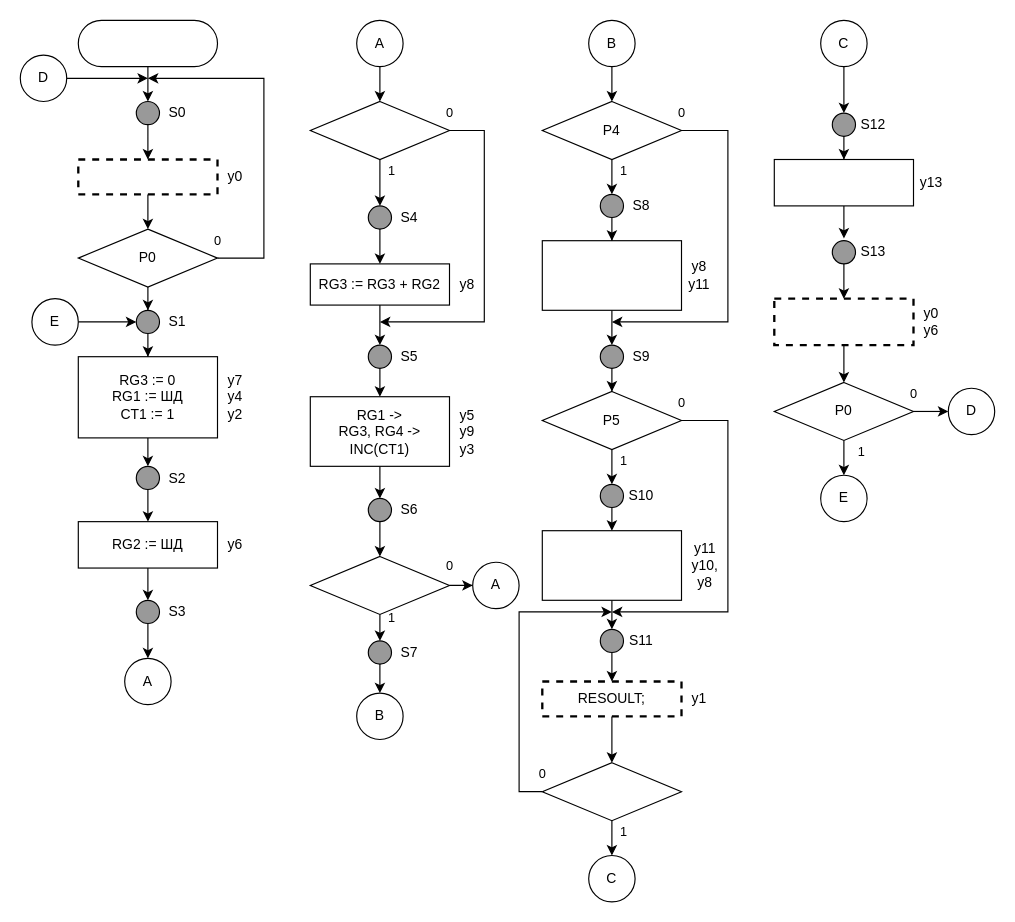
This 1015x922 diagram has some shape labels left out. Here are the shapes that lost their labels. From the top down, the box of each, then its label:
(77, 19, 217, 67): НАЧАЛО
(309, 100, 449, 160): P3
(77, 158, 218, 195): READY;
(773, 158, 913, 206): ШД := BD2
(541, 240, 682, 310): RG3 := RG3 + (-RG2)
(773, 297, 914, 346): READY; ШД := BD1
(309, 555, 449, 614): P2
(541, 530, 682, 600): RG3 := RG3 + (-RG1)
(541, 762, 682, 821): P1
